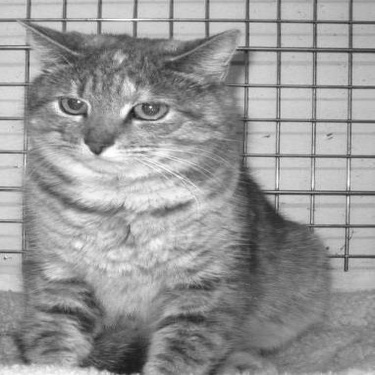cat: (1, 14, 359, 371)
